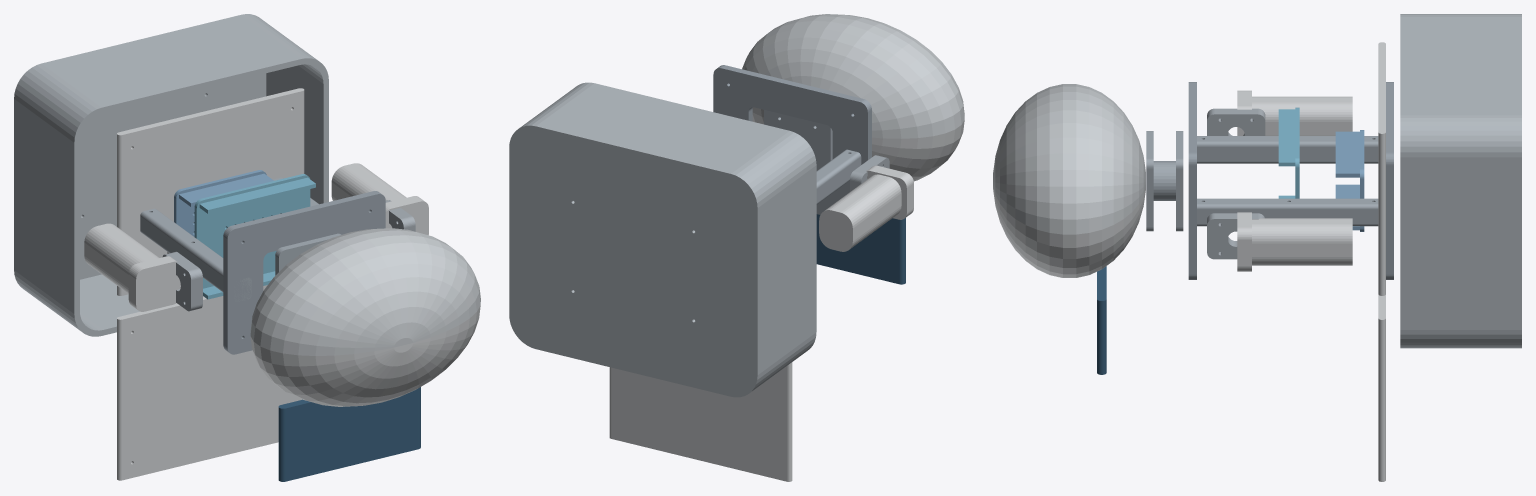
File: HERBIE_V1_Assembled_Interactive.glb
The picture shows the model from 3 angles, left to right: view 1: azimuth 30°, elevation 25°; view 2: azimuth 150°, elevation 25°; view 3: azimuth 270°, elevation 25°; orthographic projection. The views are drawn at different scales.
Parts seen in each view (by area): view 1: HBR-018, HBR-002, HBR-010, HBR-011, HBR-001, HBR-003, HBR-006, HBR-016, HBR-014, HBR-008, HBR-015, HBR-017 (+3 smaller); view 2: HBR-018, HBR-002, HBR-010, HBR-006, HBR-014, HBR-003, HBR-001, HBR-005, HBR-008, HBR-012; view 3: HBR-018, HBR-002, HBR-015, HBR-001, HBR-009, HBR-008, HBR-014, HBR-005, HBR-011, HBR-017, HBR-006, HBR-007 (+5 smaller).
Part boxes in pixels (<box>): HBR-018: <box>14,14,328,336</box>; HBR-002: <box>250,228,480,355</box>; HBR-010: <box>117,285,301,480</box>; HBR-011: <box>117,88,304,295</box>; HBR-001: <box>250,306,480,406</box>; HBR-003: <box>278,387,420,481</box>; HBR-006: <box>223,191,385,354</box>; HBR-016: <box>194,174,315,299</box>; HBR-014: <box>84,223,180,311</box>; HBR-008: <box>140,208,251,301</box>; HBR-015: <box>331,163,428,235</box>; HBR-017: <box>174,170,273,236</box>; HBR-018: <box>509,82,816,397</box>; HBR-002: <box>742,14,964,138</box>; HBR-010: <box>609,362,792,481</box>; HBR-006: <box>713,65,871,214</box>; HBR-014: <box>819,165,913,251</box>; HBR-003: <box>816,214,905,284</box>; HBR-001: <box>752,107,964,181</box>; HBR-005: <box>764,110,832,170</box>; HBR-008: <box>816,149,861,204</box>; HBR-012: <box>850,155,889,191</box>; HBR-018: <box>1400,14,1521,348</box>; HBR-002: <box>993,84,1145,234</box>; HBR-015: <box>1237,212,1352,271</box>; HBR-001: <box>993,186,1145,277</box>; HBR-009: <box>1197,198,1378,226</box>; HBR-008: <box>1197,136,1378,163</box>; HBR-014: <box>1237,90,1352,135</box>; HBR-005: <box>1146,131,1183,231</box>; HBR-011: <box>1378,42,1385,295</box>; HBR-017: <box>1335,130,1364,231</box>; HBR-006: <box>1188,82,1196,279</box>; HBR-007: <box>1386,82,1393,279</box>.
Bounding box in the file's own units: 322 × 386 × 500.
